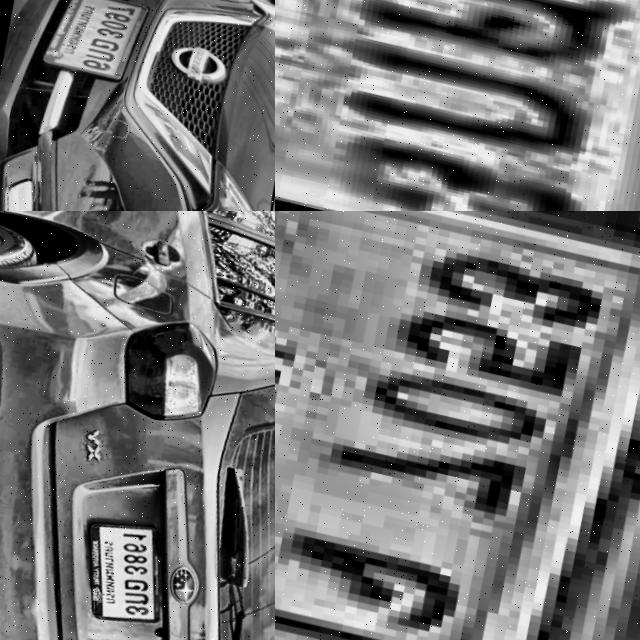license-plate: (275, 211, 640, 640), (275, 0, 640, 211), (56, 510, 188, 637), (23, 0, 151, 87)
